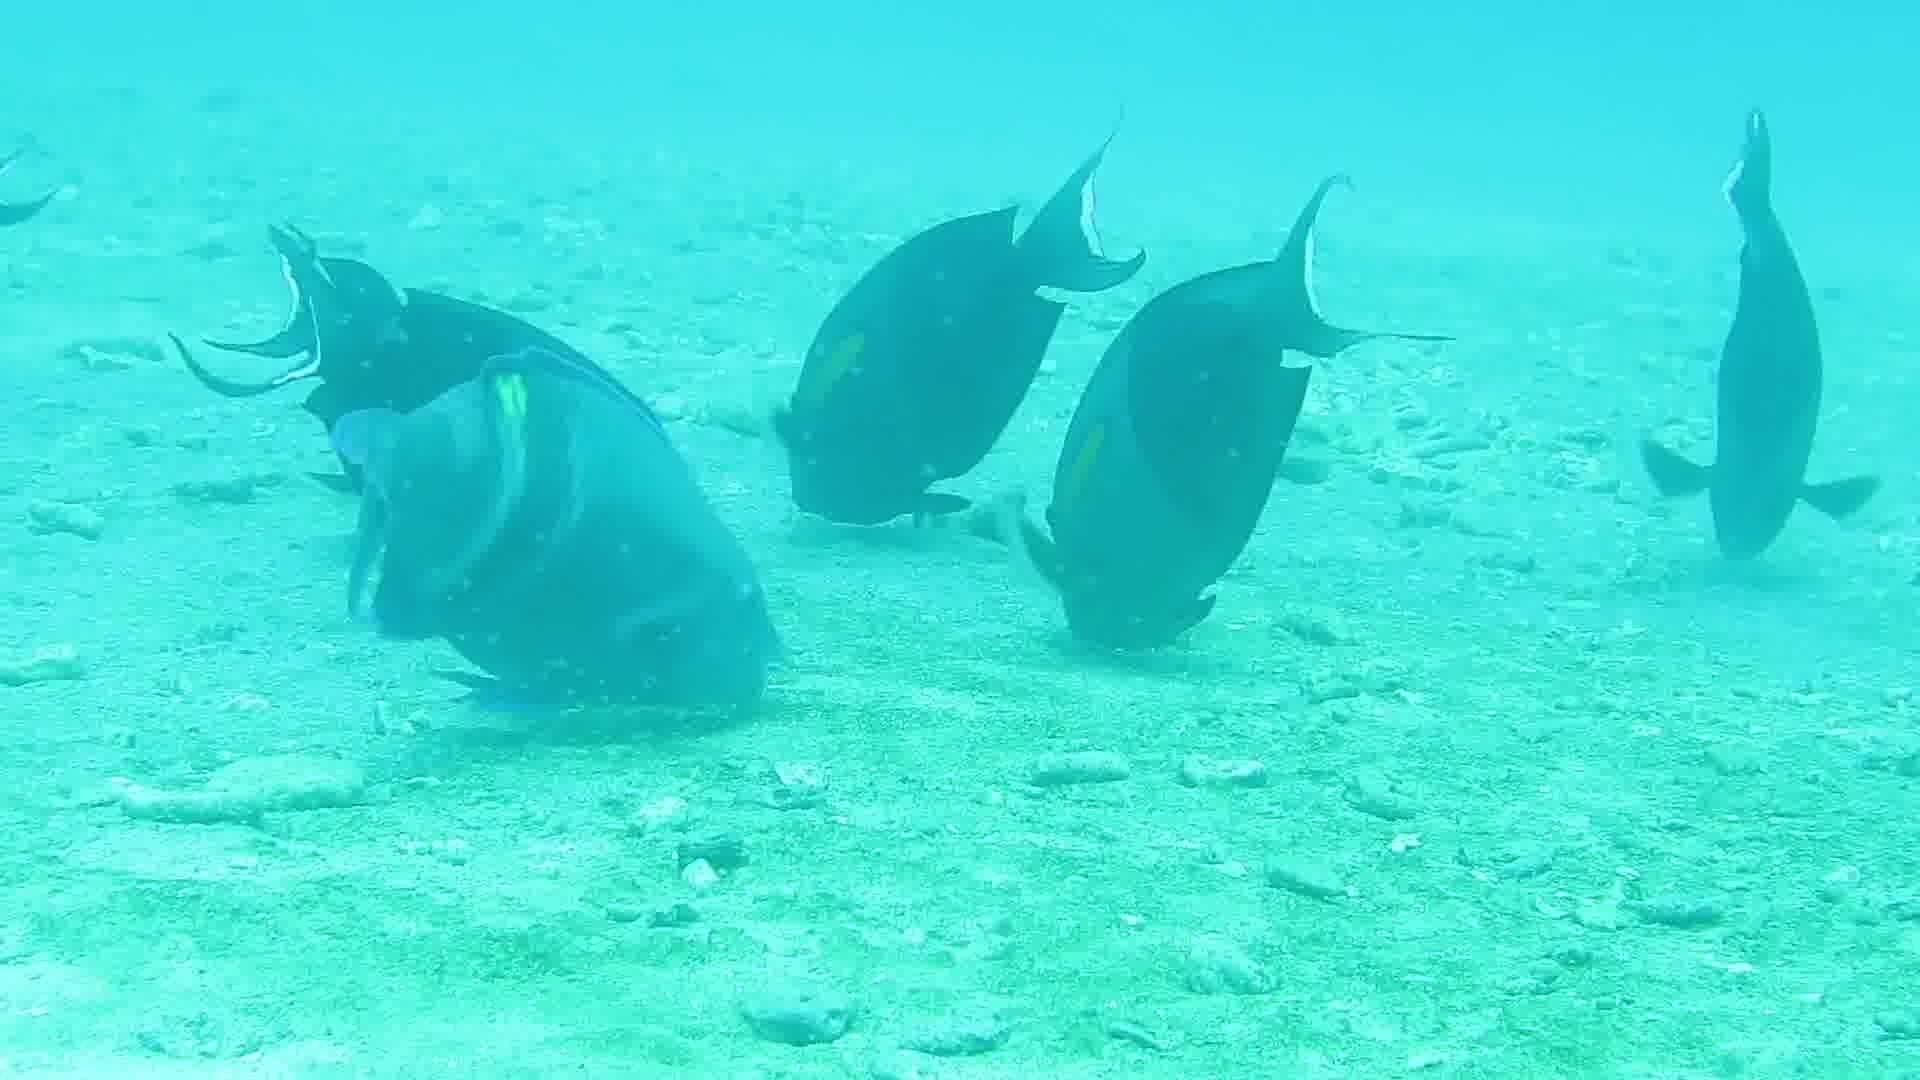Acanthurus olivaceus: (316, 237, 767, 724), (773, 113, 1129, 553), (1048, 232, 1345, 680), (1633, 158, 1855, 583)
